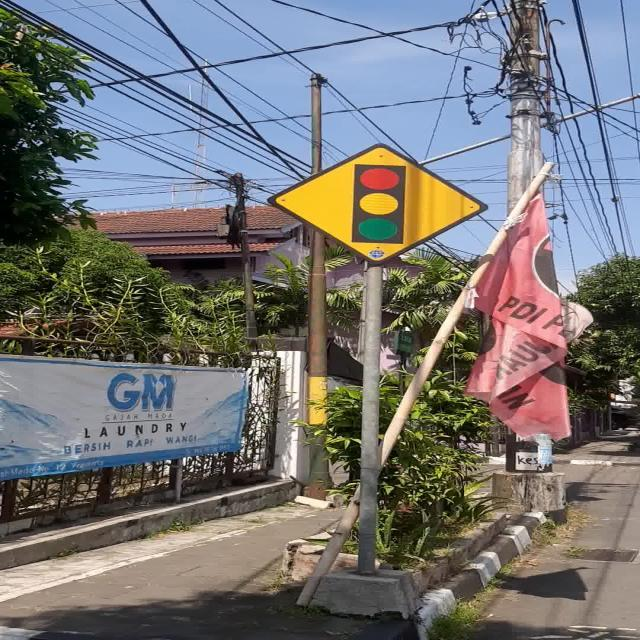Lampu Lalu Lintas: (267, 143, 489, 265)
